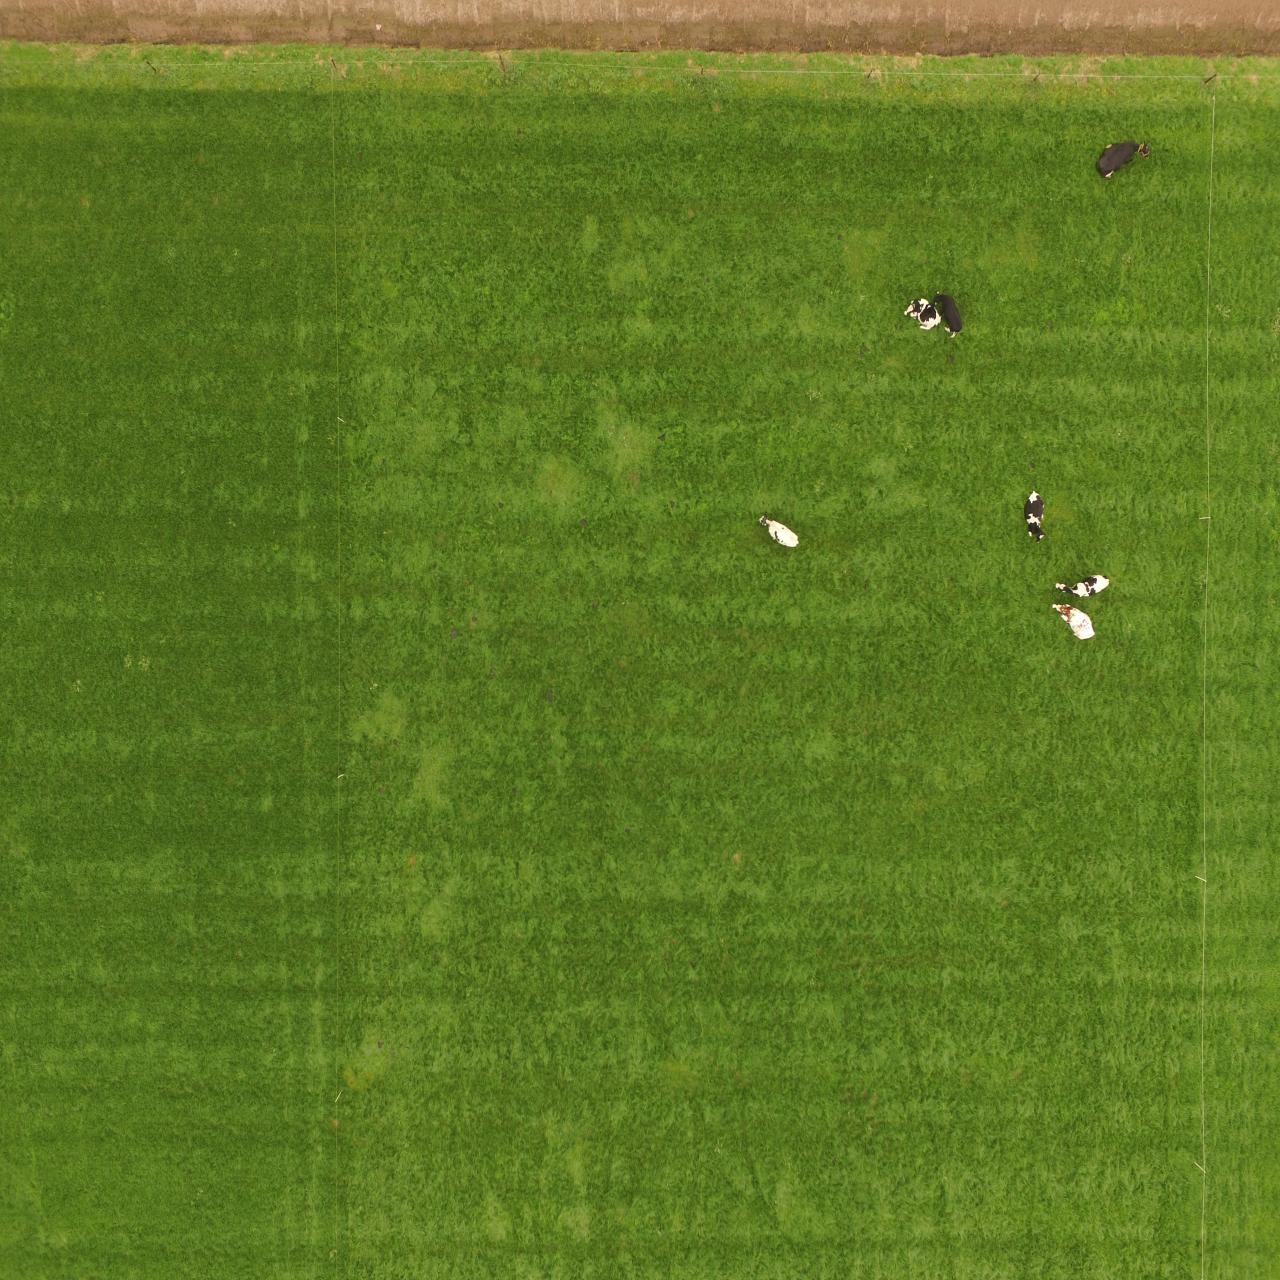cow: (1099, 138, 1152, 183), (1049, 604, 1096, 639), (1026, 490, 1050, 550), (758, 515, 802, 547), (907, 300, 945, 334), (937, 294, 964, 338), (1054, 578, 1117, 594)
